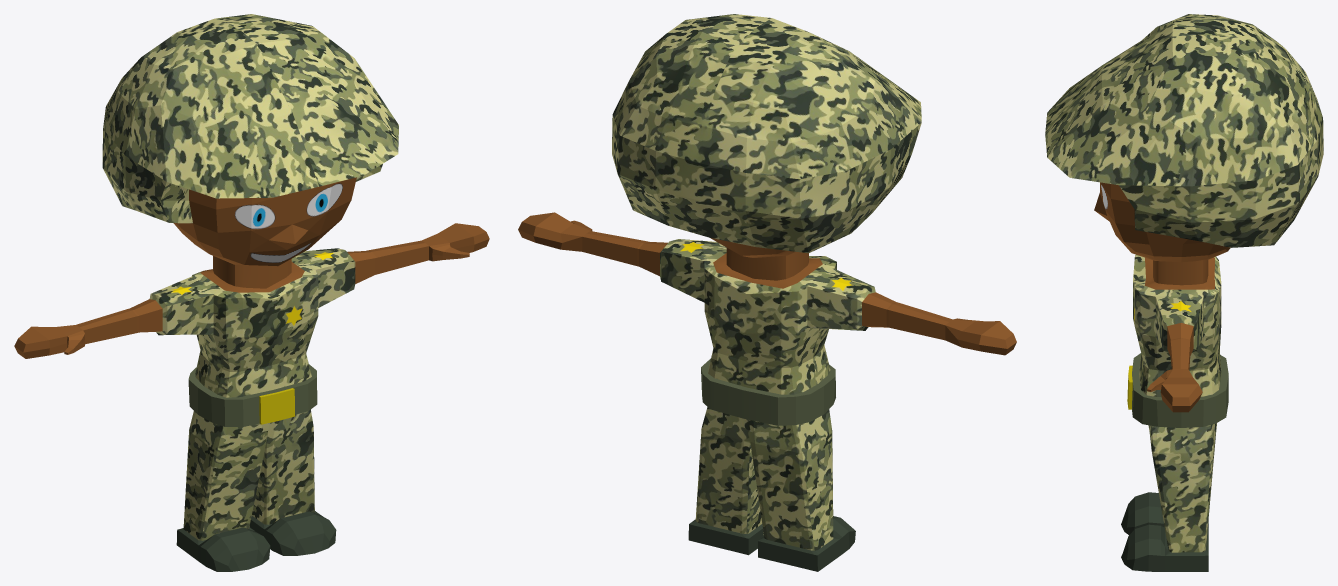
File: personaggio.fbx
3 renders of one model, left to right at view 1: azimuth 30°, elevation 25°; view 2: azimuth 150°, elevation 25°; view 3: azimuth 270°, elevation 25°, orthographic. The views are drawn at different scales.
Parts seen in each view (by area): view 1: Personaggio_mesh; view 2: Personaggio_mesh; view 3: Personaggio_mesh.
Boxes of the visible parts, x1,y1,x2,y2 form: Personaggio_mesh: [14, 14, 489, 571]; Personaggio_mesh: [518, 14, 1016, 571]; Personaggio_mesh: [1045, 14, 1323, 571].
Size of the model in its own units: 1.61 by 1.65 by 0.8224.
1 material, 1 textured.
